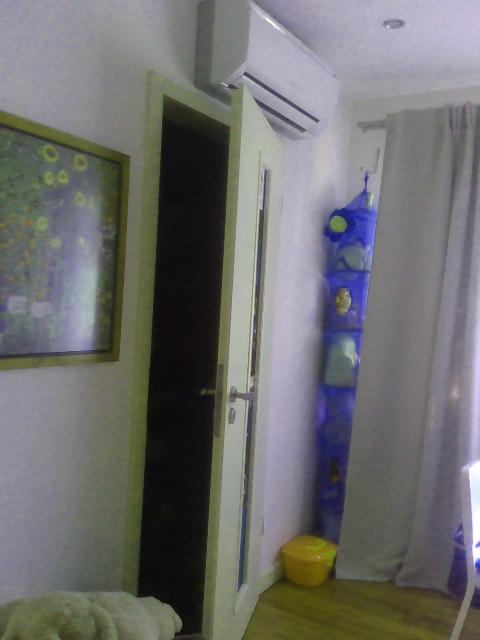semi_door: (122, 65, 287, 639)
